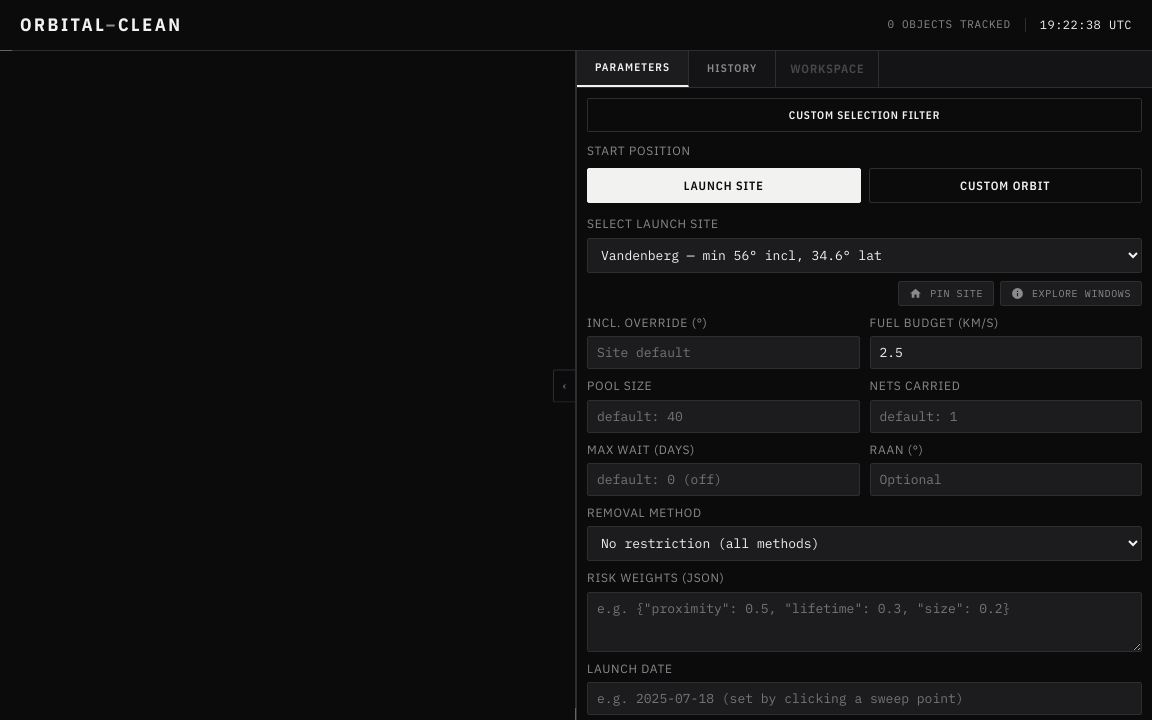
Scenario: 1. Empty state — Workspace placeholder › renders "Workspace" (no #N) and empty-label when no entry is active
The width and height of the screenshot is (1152, 720).
// Switch to the Workspace panel (now always clickable)
Click the tab with test id "panel-tab-workspace".
click(828, 69)  # box [776,51,879,87]
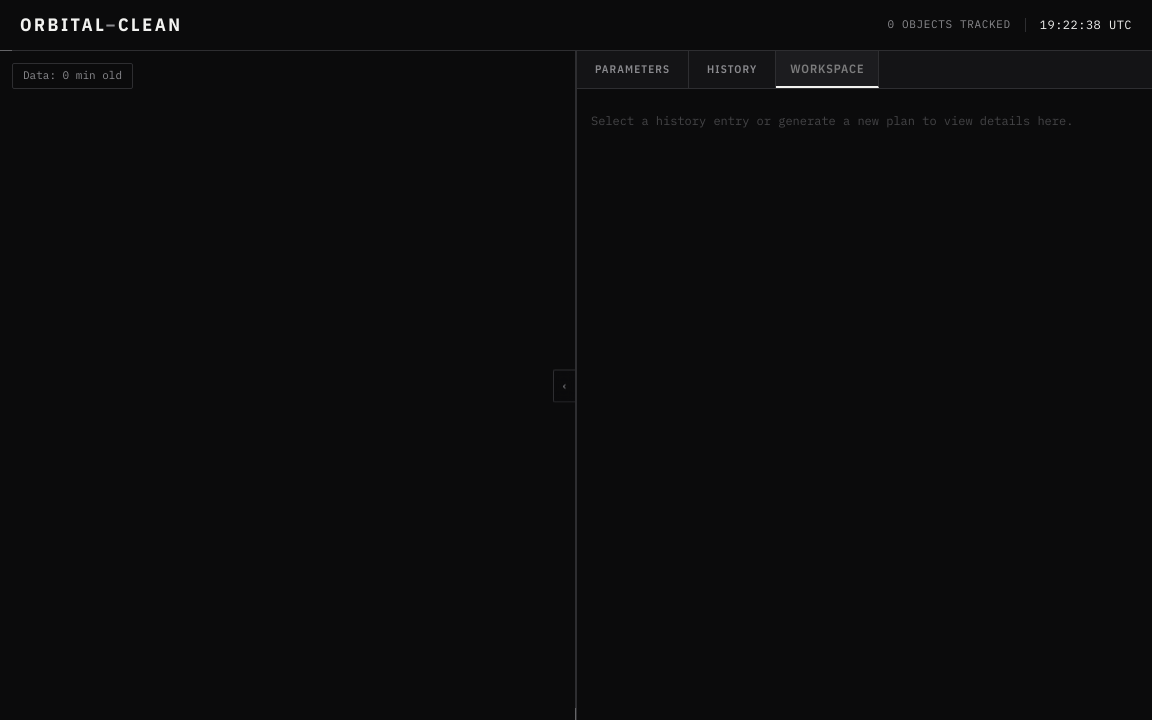
Expected: the text with test id "workspace-title" reads "Workspace", [790,61,864,76]
Expected: the text with test id "workspace-empty-label" is shown, [591,114,1073,128]
